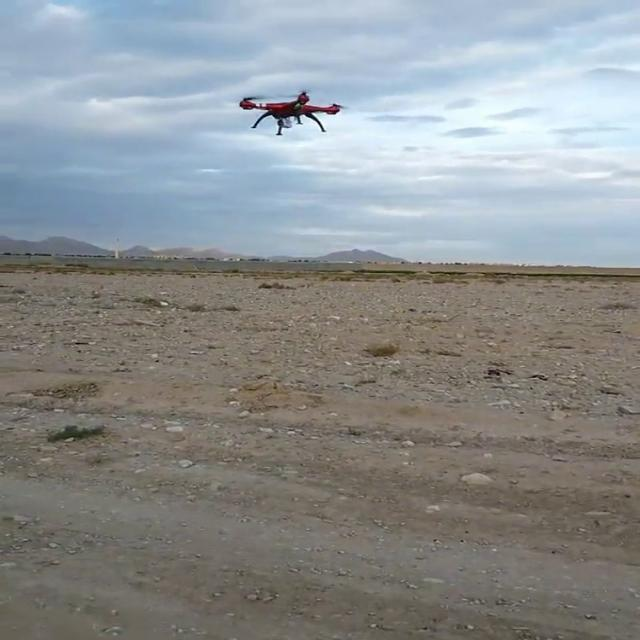drone: (230, 90, 347, 138)
